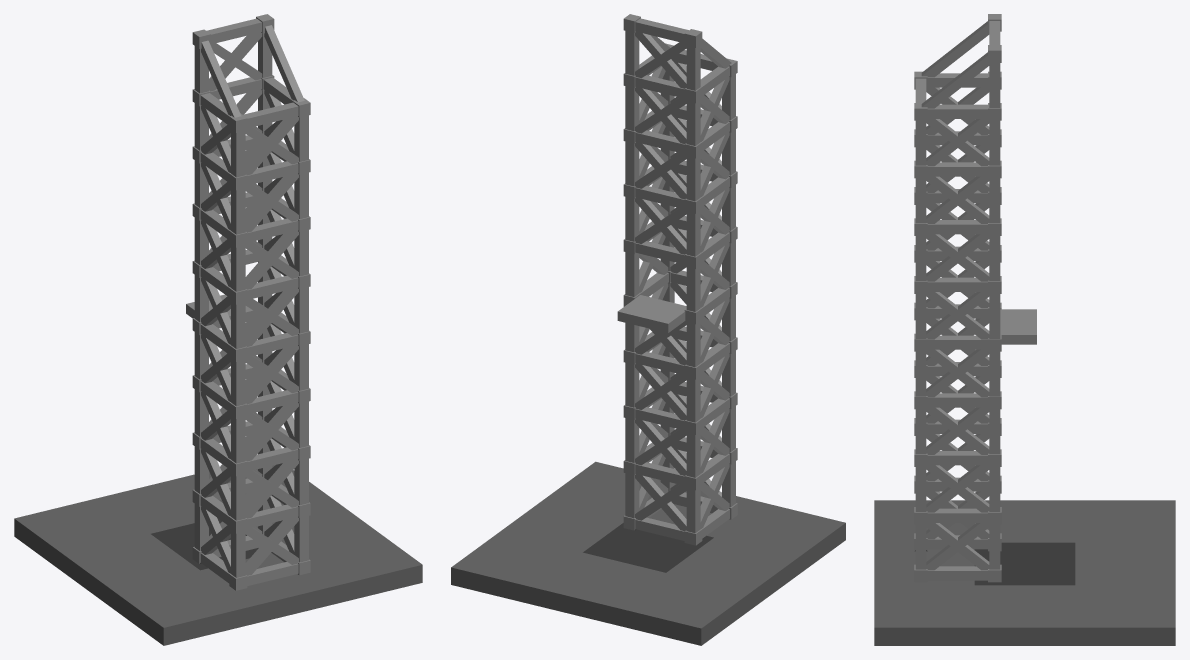
Rendered from RocketLanchuer.fbx.
3 renders of one model, left to right at view 1: azimuth 30°, elevation 25°; view 2: azimuth 150°, elevation 25°; view 3: azimuth 270°, elevation 25°, orthographic. The views are drawn at different scales.
Visible parts, largest first — view 1: RockerLanchuerStation; view 2: RockerLanchuerStation; view 3: RockerLanchuerStation.
Boxes of the visible parts, box(x1,y1,x2,y2) form: RockerLanchuerStation: box(14, 14, 422, 645); RockerLanchuerStation: box(451, 14, 845, 645); RockerLanchuerStation: box(874, 14, 1175, 645).
Bounding box in the file's own units: 90 × 181 × 90.
